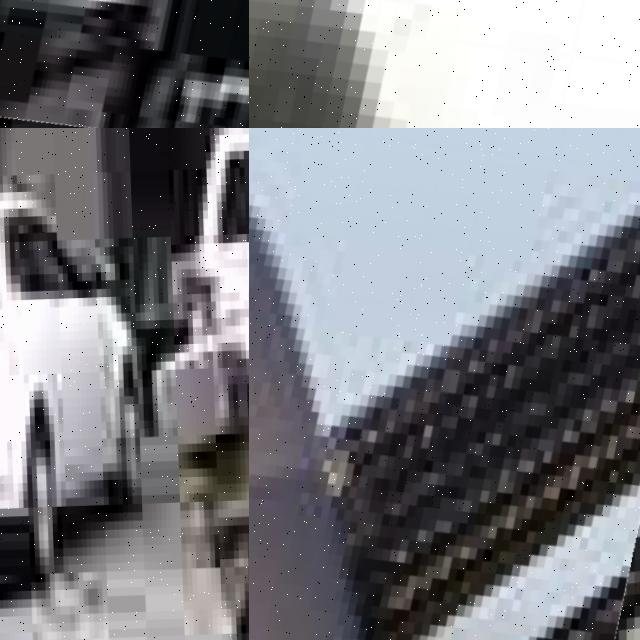drone: (249, 128, 640, 640), (249, 0, 640, 128), (0, 0, 249, 128)
